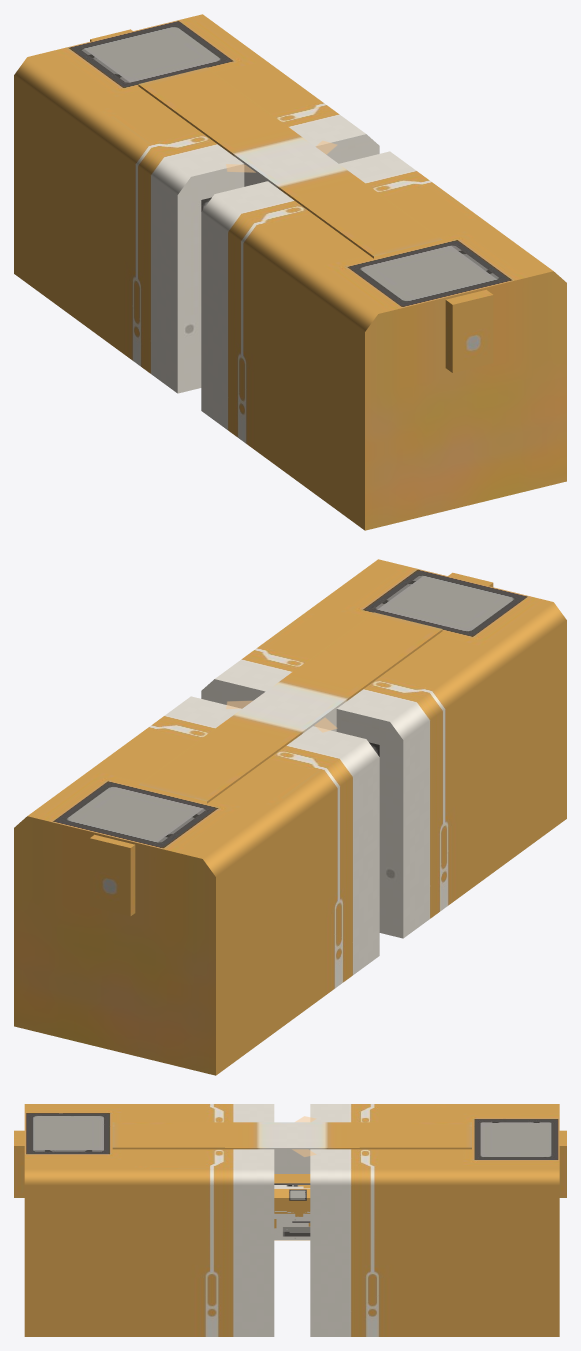
File: sorter-mk1.glb
The picture shows the model from 3 angles, top to bottom: view 1: azimuth 30°, elevation 25°; view 2: azimuth 150°, elevation 25°; view 3: azimuth 270°, elevation 25°; orthographic projection. The views are drawn at different scales.
Visible parts, largest first — view 1: BRail, ARail, BCap; view 2: ARail, BRail, ACap; view 3: BRail, ARail, grabberLoaded, BCap, ACap, grabber.
Part boxes in pixels (x1,y1,x2,y2): BRail: (201, 151, 566, 530); ARail: (14, 14, 379, 393); BCap: (445, 289, 493, 372); ARail: (14, 696, 379, 1075); BRail: (201, 559, 566, 938); ACap: (90, 834, 135, 916); BRail: (24, 1104, 297, 1336); ARail: (287, 1104, 559, 1336); grabberLoaded: (274, 1185, 310, 1240); BCap: (14, 1130, 24, 1197); ACap: (559, 1130, 566, 1197); grabber: (274, 1174, 310, 1184).
Size of what is drawn, in the model's own units: 0.99 by 1.01 by 3.08.
2 materials, 2 textured.
